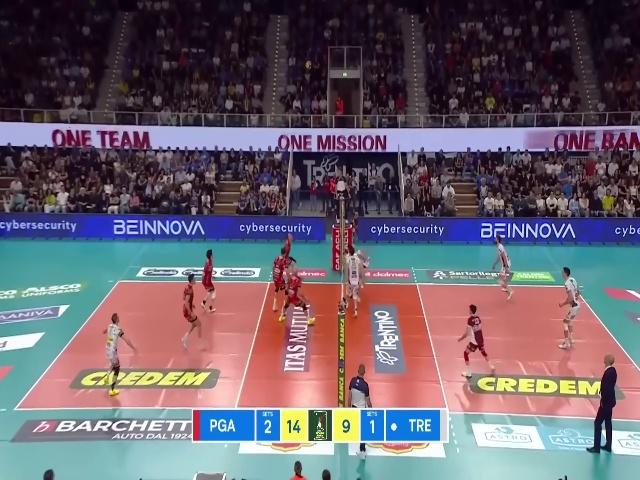volleyball court: (8, 277, 638, 419)
